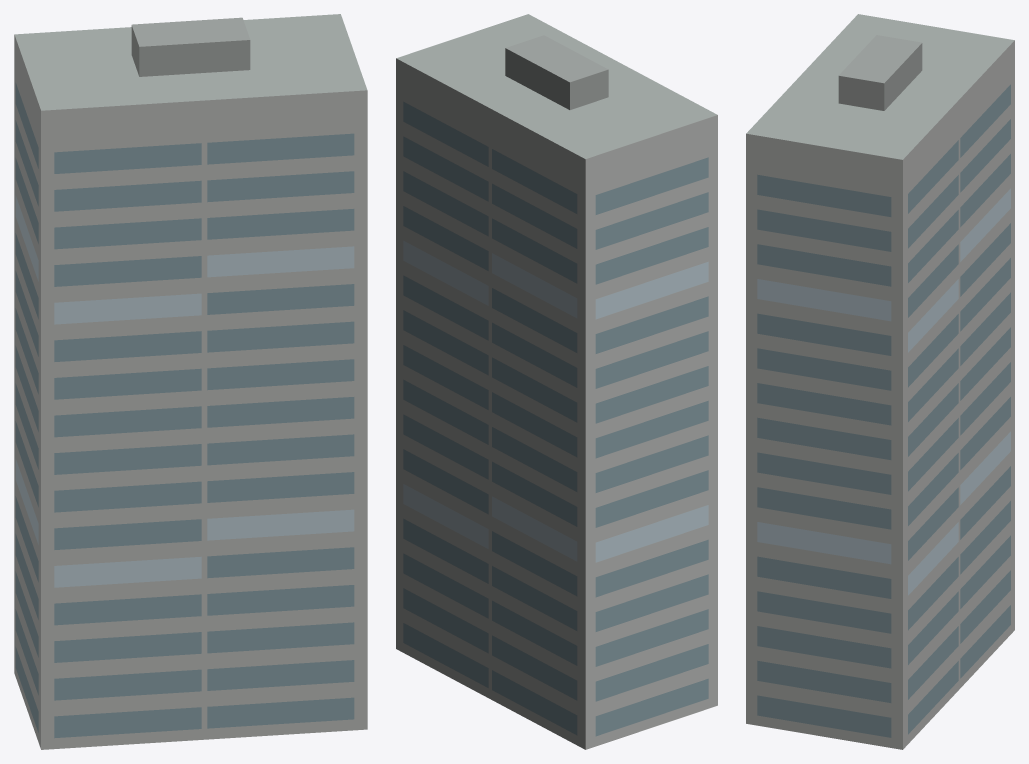
Rendered from fallback-jamsil-els-117.glb.
The picture shows the model from 3 angles, left to right: view 1: azimuth 30°, elevation 25°; view 2: azimuth 150°, elevation 25°; view 3: azimuth 270°, elevation 25°; orthographic projection. The views are drawn at different scales.
Visible parts, largest first — view 1: fallback-jamsil-els-117; view 2: fallback-jamsil-els-117; view 3: fallback-jamsil-els-117.
Part boxes in pixels (<box>): fallback-jamsil-els-117: <box>14,14,367,749</box>; fallback-jamsil-els-117: <box>396,14,717,749</box>; fallback-jamsil-els-117: <box>746,14,1014,749</box>.
Size of the model in its own units: 23.29 by 46 by 18.13.
